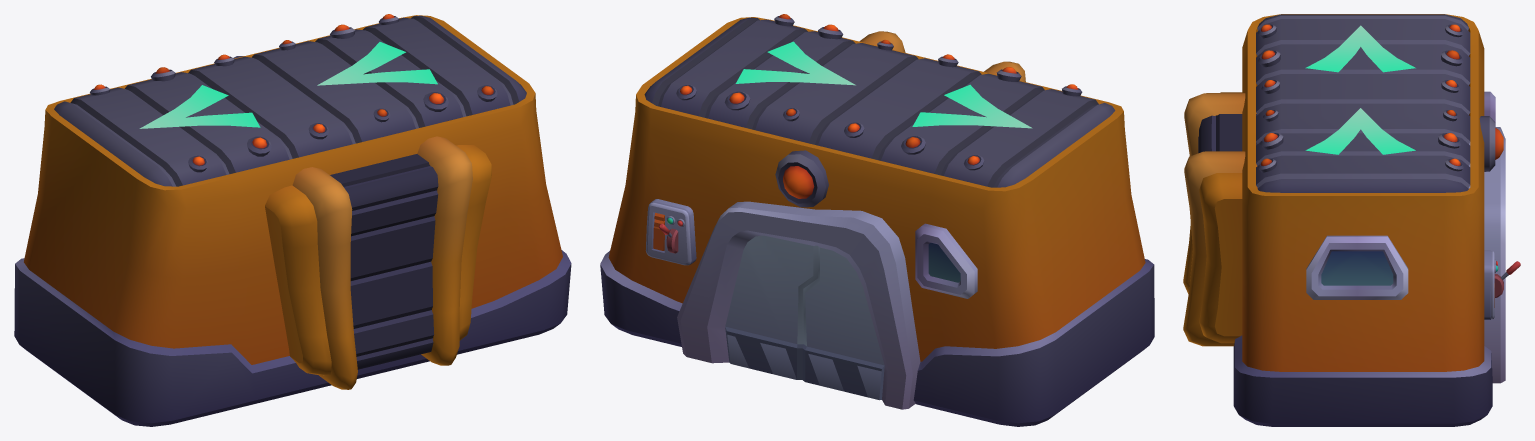
File: SM_Camera_Room_01.fbx
The picture shows the model from 3 angles, left to right: view 1: azimuth 30°, elevation 25°; view 2: azimuth 150°, elevation 25°; view 3: azimuth 270°, elevation 25°; orthographic projection. The views are drawn at different scales.
Visible parts, largest first — view 1: SM_Camera_Room_01; view 2: SM_Camera_Room_01; view 3: SM_Camera_Room_01.
Part boxes in pixels (box(x1,y1,x2,y2)): SM_Camera_Room_01: box(14, 14, 571, 426); SM_Camera_Room_01: box(600, 14, 1154, 426); SM_Camera_Room_01: box(1183, 14, 1520, 426).
Size of the model in its own units: 6.91 by 3.66 by 4.7.
